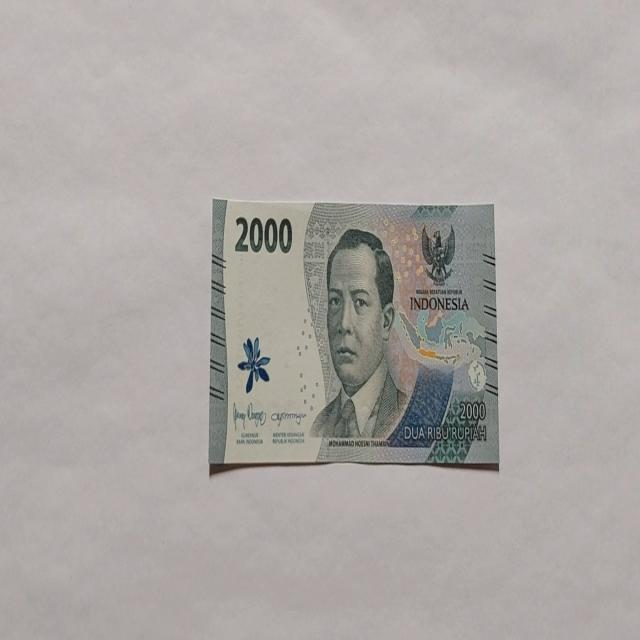dua ribu rupiah: (208, 197, 498, 470), (308, 226, 410, 444)
